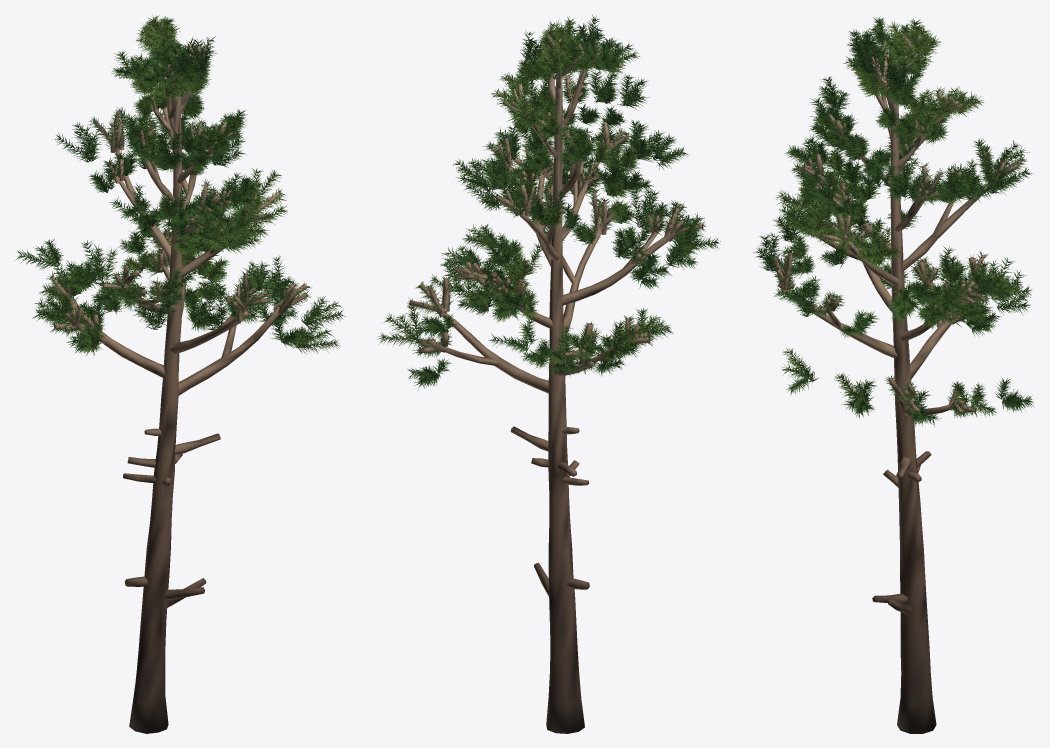
File: PineTree_06.glb
The picture shows the model from 3 angles, left to right: view 1: azimuth 30°, elevation 25°; view 2: azimuth 150°, elevation 25°; view 3: azimuth 270°, elevation 25°; orthographic projection.
Parts seen in each view (by area): view 1: PineTree_06; view 2: PineTree_06; view 3: PineTree_06.
Part boxes in pixels (x1,y1,x2,y2): PineTree_06: (15, 15, 345, 733); PineTree_06: (377, 15, 720, 733); PineTree_06: (753, 16, 1034, 733).
Size of the model in its own units: 7.51 by 16.9 by 6.15.
